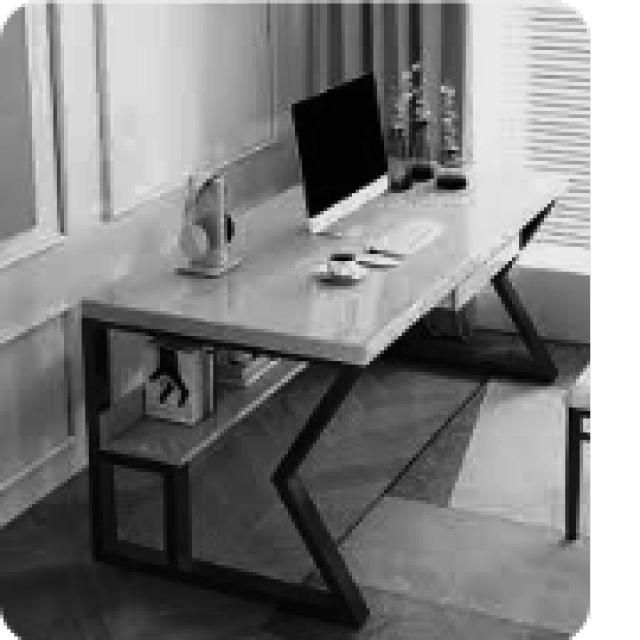table: (78, 154, 569, 626)
